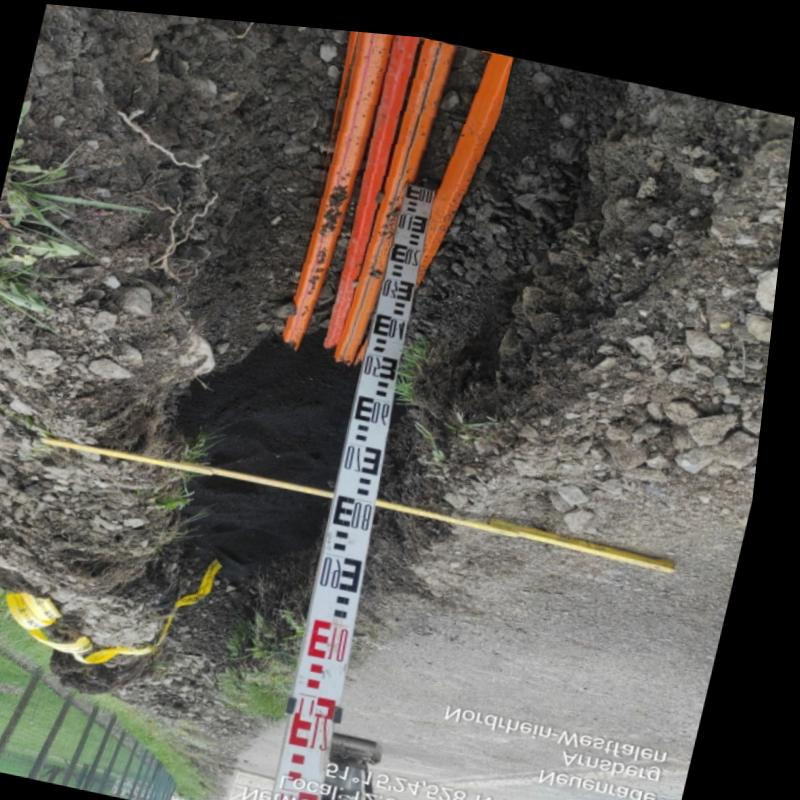Orang-Speednetrohrchen: (291, 25, 513, 355)
